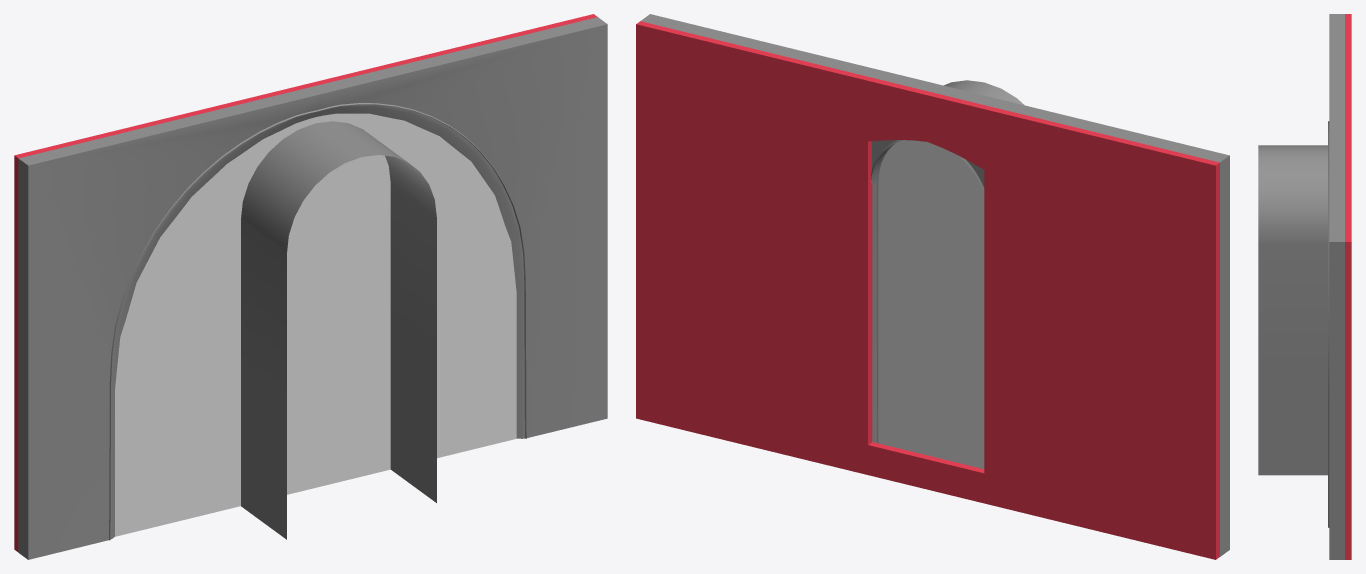
The model's file is Doorway_Large_D_outline.FBX.
3 views of the same model, side by side, from view 1: azimuth 30°, elevation 25°; view 2: azimuth 150°, elevation 25°; view 3: azimuth 270°, elevation 25° (orthographic). The views are drawn at different scales.
Parts seen in each view (by area): view 1: doorway_Large_D_A, doorway_Large_D_pattern, doorway_Large_D_GodRays, doorway_Large_D_B, doorway_Large_D_outline; view 2: doorway_Large_D_B, doorway_Large_D_pattern, doorway_Large_D_A, doorway_Large_D_outline, doorway_Large_D_GodRays; view 3: doorway_Large_D_GodRays, doorway_Large_D_A, doorway_Large_D_B, doorway_Large_D_outline.
Boxes of the visible parts, bbox=[...] form: doorway_Large_D_A: bbox=[18, 17, 607, 559]; doorway_Large_D_pattern: bbox=[115, 113, 516, 536]; doorway_Large_D_GodRays: bbox=[241, 121, 436, 539]; doorway_Large_D_B: bbox=[14, 14, 597, 551]; doorway_Large_D_outline: bbox=[109, 103, 526, 540]; doorway_Large_D_B: bbox=[636, 21, 1219, 559]; doorway_Large_D_pattern: bbox=[878, 140, 984, 468]; doorway_Large_D_A: bbox=[640, 14, 1229, 556]; doorway_Large_D_outline: bbox=[871, 140, 984, 443]; doorway_Large_D_GodRays: bbox=[944, 80, 1024, 105]; doorway_Large_D_GodRays: bbox=[1258, 145, 1327, 475]; doorway_Large_D_A: bbox=[1329, 14, 1344, 559]; doorway_Large_D_B: bbox=[1345, 14, 1351, 559]; doorway_Large_D_outline: bbox=[1328, 121, 1329, 527].
Size of the model in its own units: 999 by 650 by 173.
